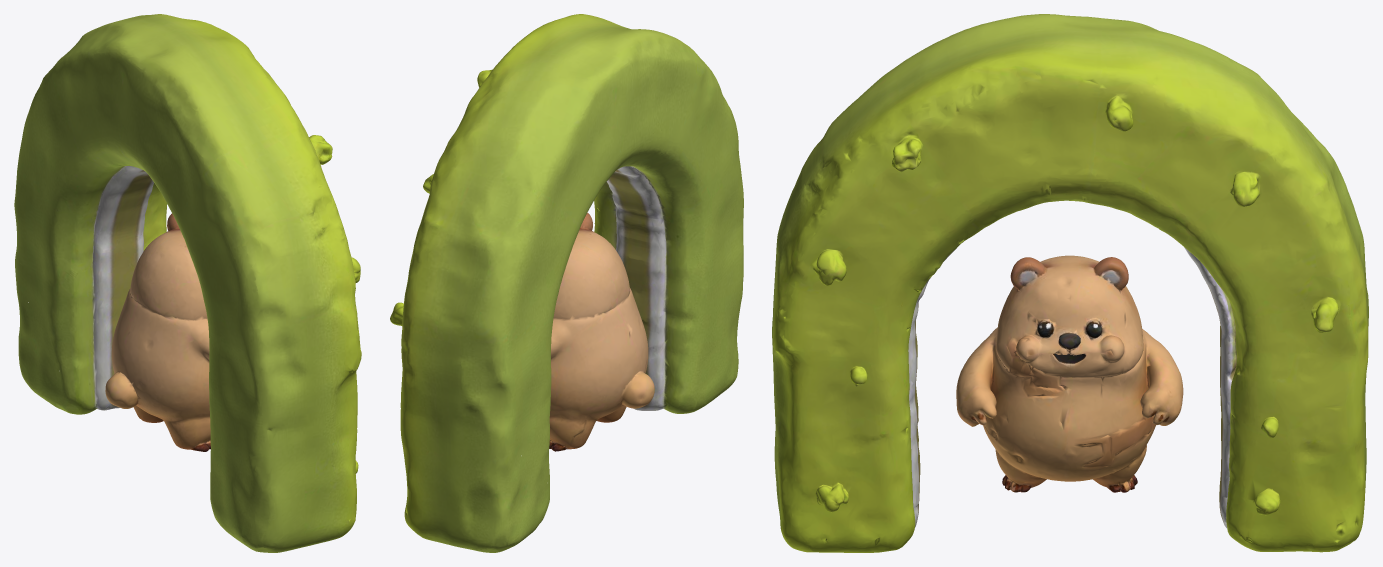
Rendered from env_nest_monster_06.glb.
3 renders of one model, left to right at view 1: azimuth 30°, elevation 25°; view 2: azimuth 150°, elevation 25°; view 3: azimuth 270°, elevation 25°, orthographic. The views are drawn at different scales.
Visible parts, largest first — view 1: tripo_node_ccf583b6-a8a3-4e38-b585-f625ce1adf1c; view 2: tripo_node_ccf583b6-a8a3-4e38-b585-f625ce1adf1c; view 3: tripo_node_ccf583b6-a8a3-4e38-b585-f625ce1adf1c.
Part boxes in pixels (<box>): tripo_node_ccf583b6-a8a3-4e38-b585-f625ce1adf1c: <box>14,14,361,552</box>; tripo_node_ccf583b6-a8a3-4e38-b585-f625ce1adf1c: <box>390,14,743,552</box>; tripo_node_ccf583b6-a8a3-4e38-b585-f625ce1adf1c: <box>772,14,1368,552</box>.
Bounding box in the file's own units: 0.4195 × 1.1 × 1.2.
1 material, 1 textured.
